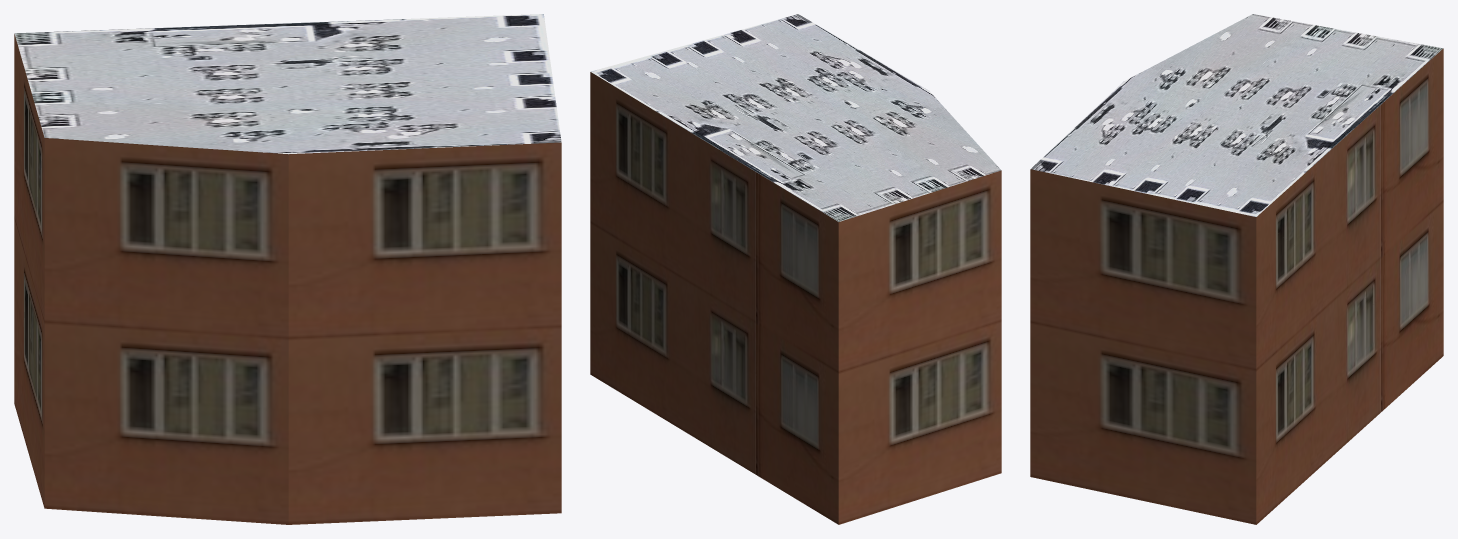
Rendered from ResTex__3770.fbx.
3 views of the same model, side by side, from view 1: azimuth 30°, elevation 25°; view 2: azimuth 150°, elevation 25°; view 3: azimuth 270°, elevation 25° (orthographic). The views are drawn at different scales.
Parts seen in each view (by area): view 1: CityEngineMaterial_20_m, CityEngineMaterial_4_m; view 2: CityEngineMaterial_20_m, CityEngineMaterial_4_m; view 3: CityEngineMaterial_20_m, CityEngineMaterial_4_m.
Part boxes in pixels (x1,y1,x2,y2): CityEngineMaterial_20_m: [14, 34, 561, 524]; CityEngineMaterial_4_m: [14, 14, 561, 154]; CityEngineMaterial_20_m: [590, 72, 1001, 524]; CityEngineMaterial_4_m: [590, 14, 1001, 221]; CityEngineMaterial_20_m: [1030, 48, 1443, 524]; CityEngineMaterial_4_m: [1031, 14, 1442, 216].
Size of the model in its own units: 8.49 by 6 by 7.3.
Materials: 2 (2 with a texture image).
